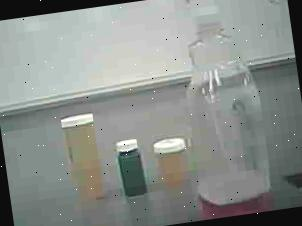Bottle A: (55, 99, 114, 209)
Bottle B: (151, 127, 195, 194)
Bottle C: (110, 132, 153, 202)
hazard: (162, 0, 282, 221)
